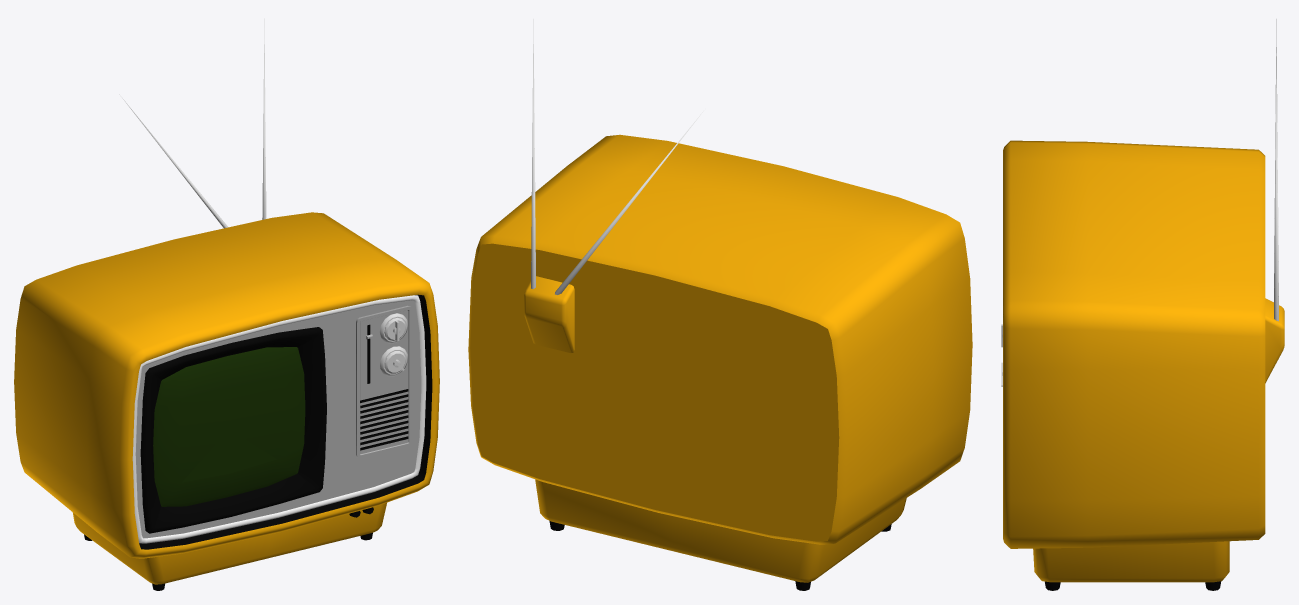
The model's file is TVv.glb.
3 renders of one model, left to right at view 1: azimuth 30°, elevation 25°; view 2: azimuth 150°, elevation 25°; view 3: azimuth 270°, elevation 25°, orthographic. The views are drawn at different scales.
Parts seen in each view (by area): view 1: Retro_TV; view 2: Retro_TV; view 3: Retro_TV.
Boxes of the visible parts, x1=… form: Retro_TV: x1=14, y1=18, x2=439, y2=590; Retro_TV: x1=468, y1=19, x2=972, y2=590; Retro_TV: x1=1001, y1=19, x2=1284, y2=590.
Size of the model in its own units: 110 by 150 by 71.95.
